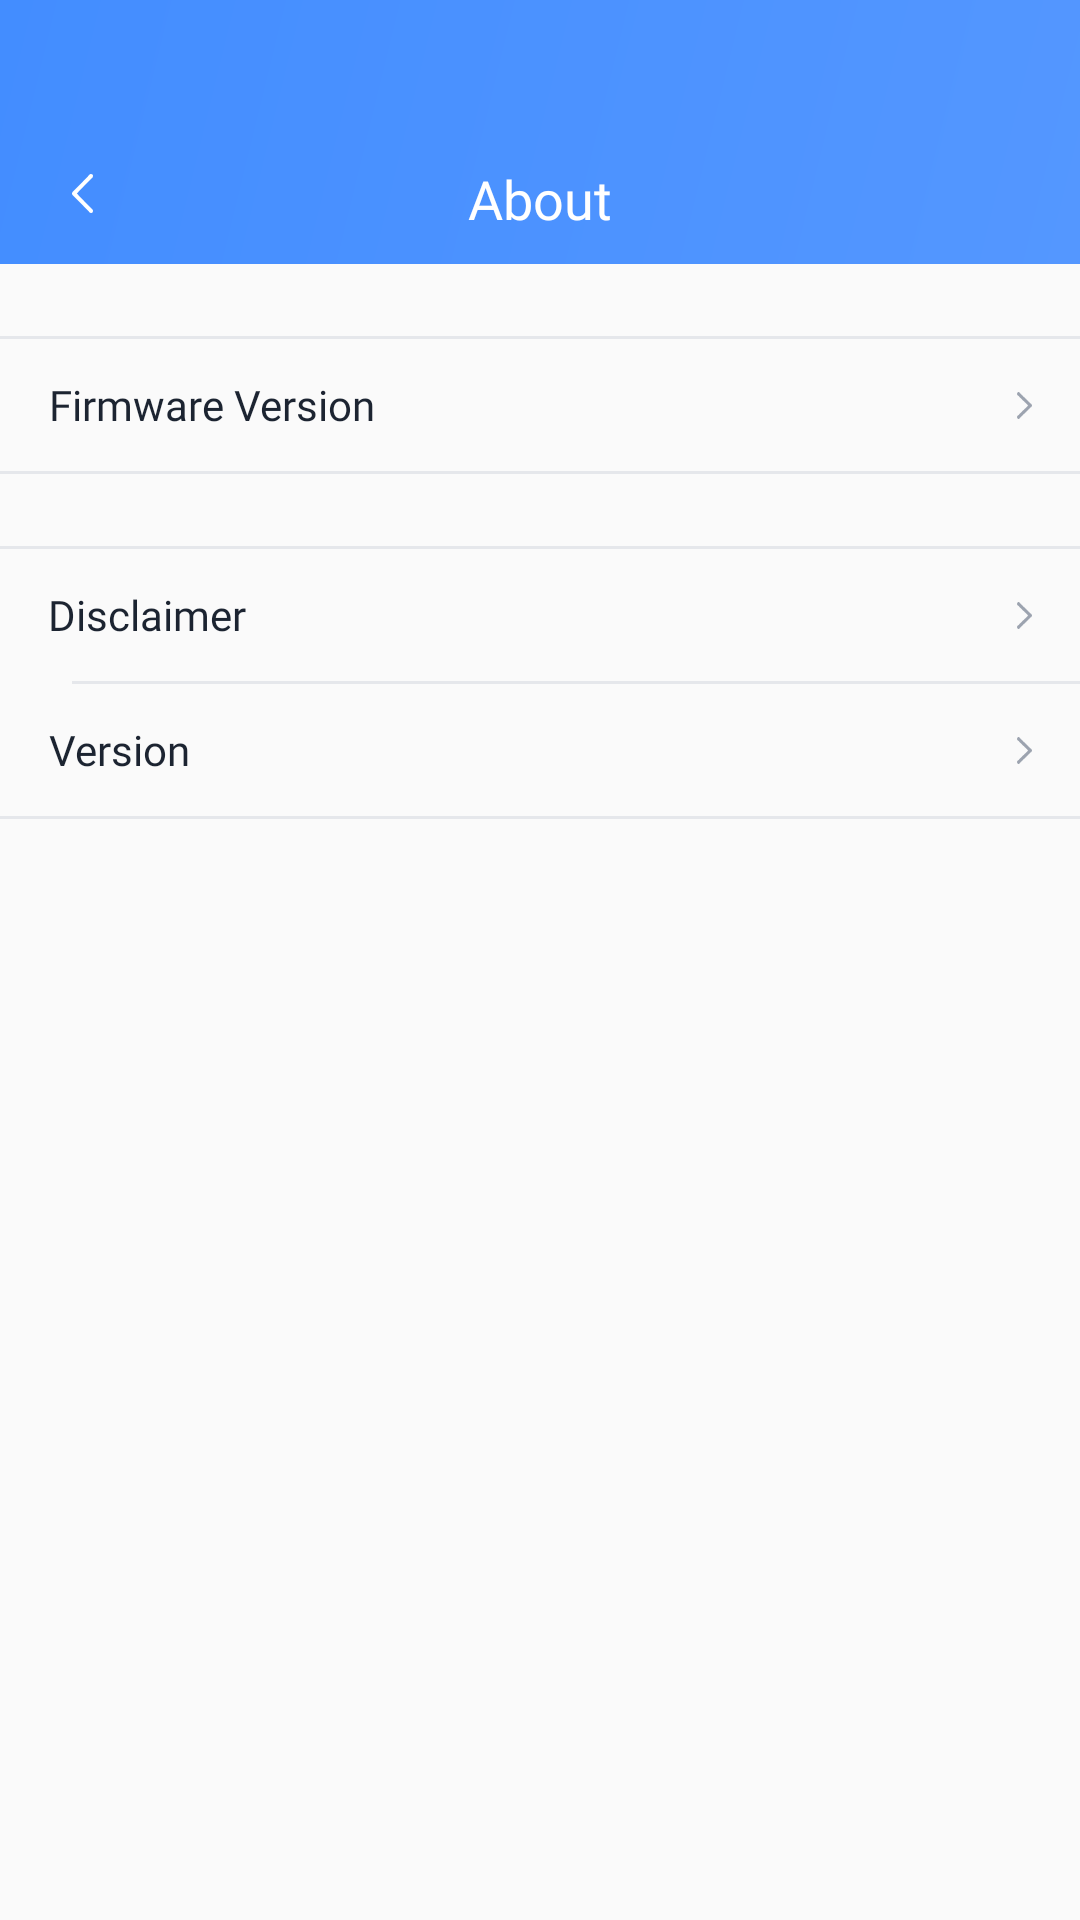

Point at icon controls on the screen. Image size 1080*1920, points as (x=x, y=y).
left: (x=82, y=193)
